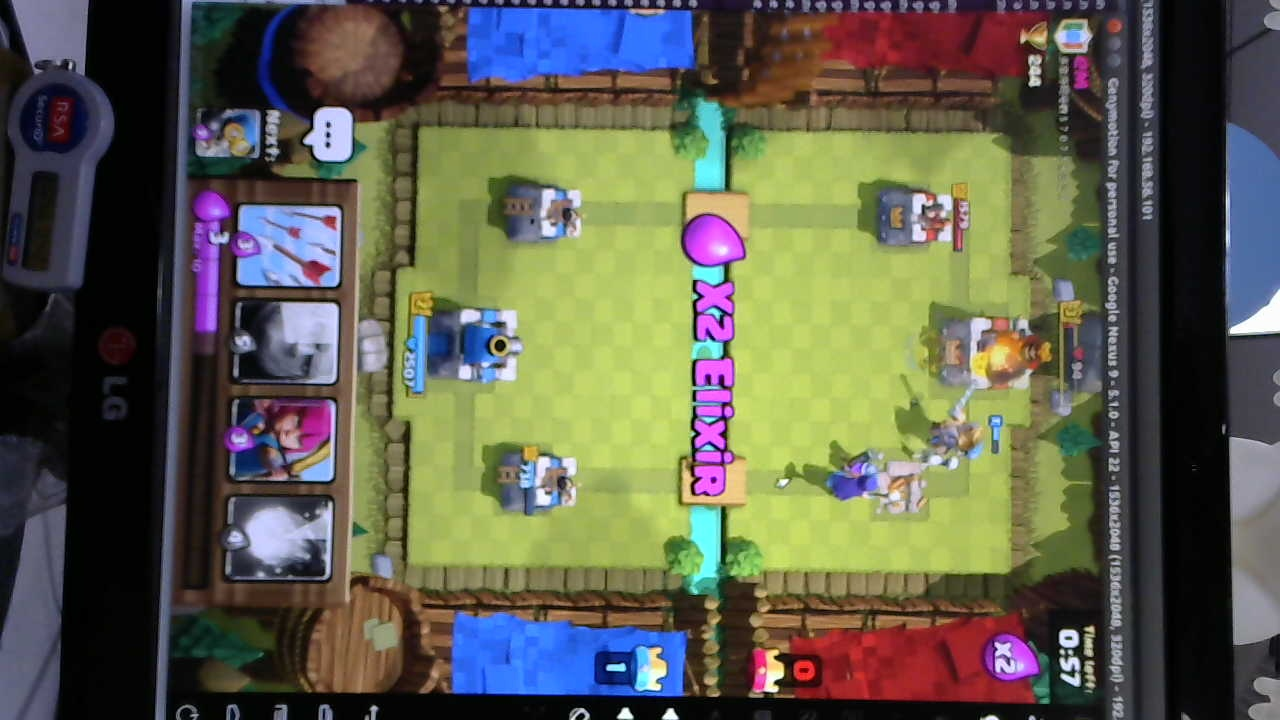arena: (499, 449, 584, 519), (499, 179, 582, 245)
darena: (871, 461, 933, 519)
earena: (874, 185, 956, 250)
eking: (935, 310, 1040, 392)
king: (427, 300, 523, 388)
musketeer: (837, 445, 887, 478)
prince: (933, 387, 985, 460)
witch: (820, 473, 905, 502)
